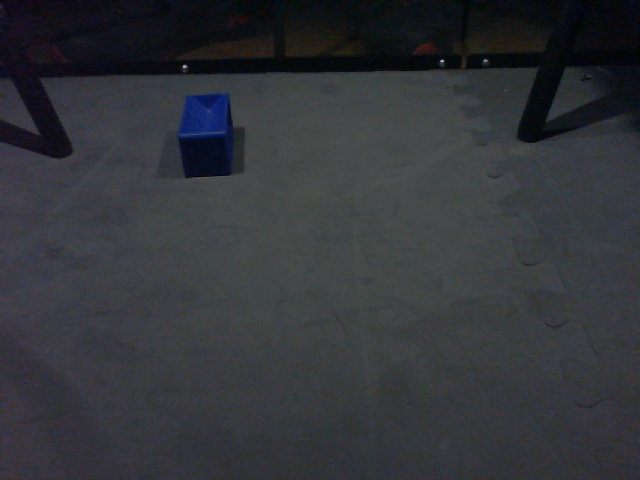BlueSample: (177, 93, 236, 181)
